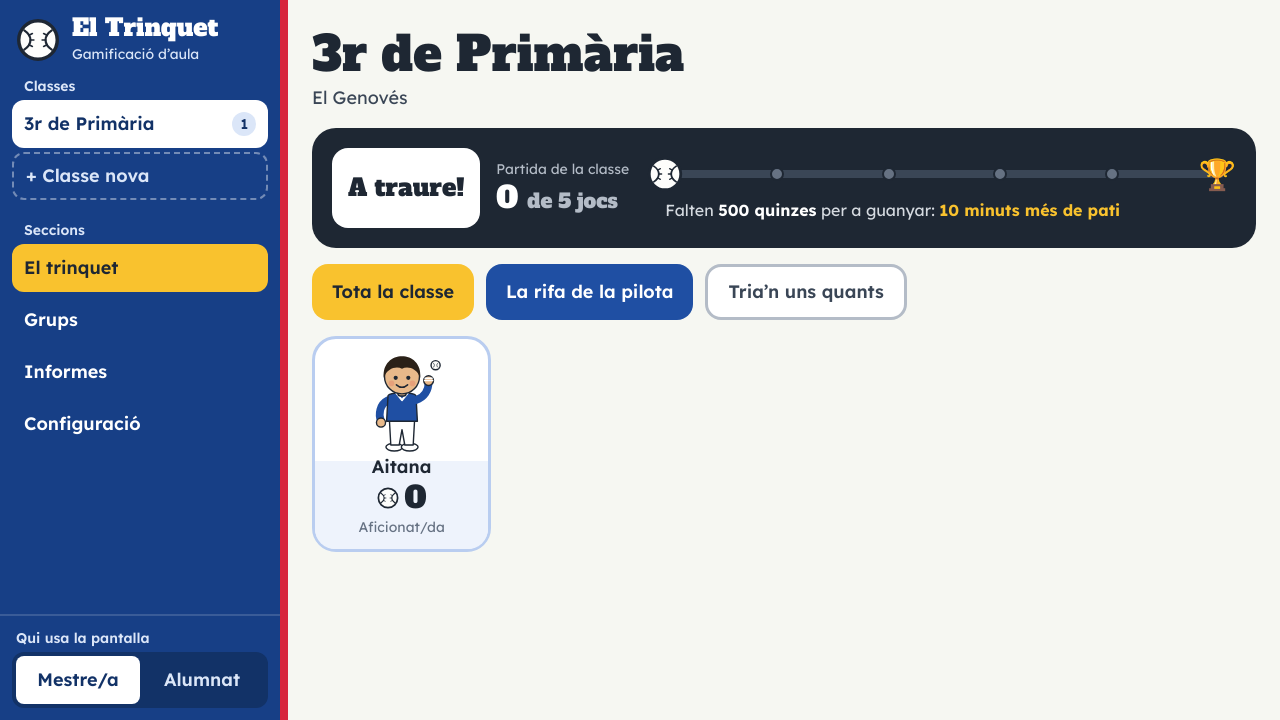
it: diverses classes › crea una classe nova, buida, i porta a Configuració per a afegir-hi alumnes
The image size is (1280, 720).
Click the button "+ Classe nova".
click(140, 176)  # box top-left (12, 152), bottom-right (268, 200)
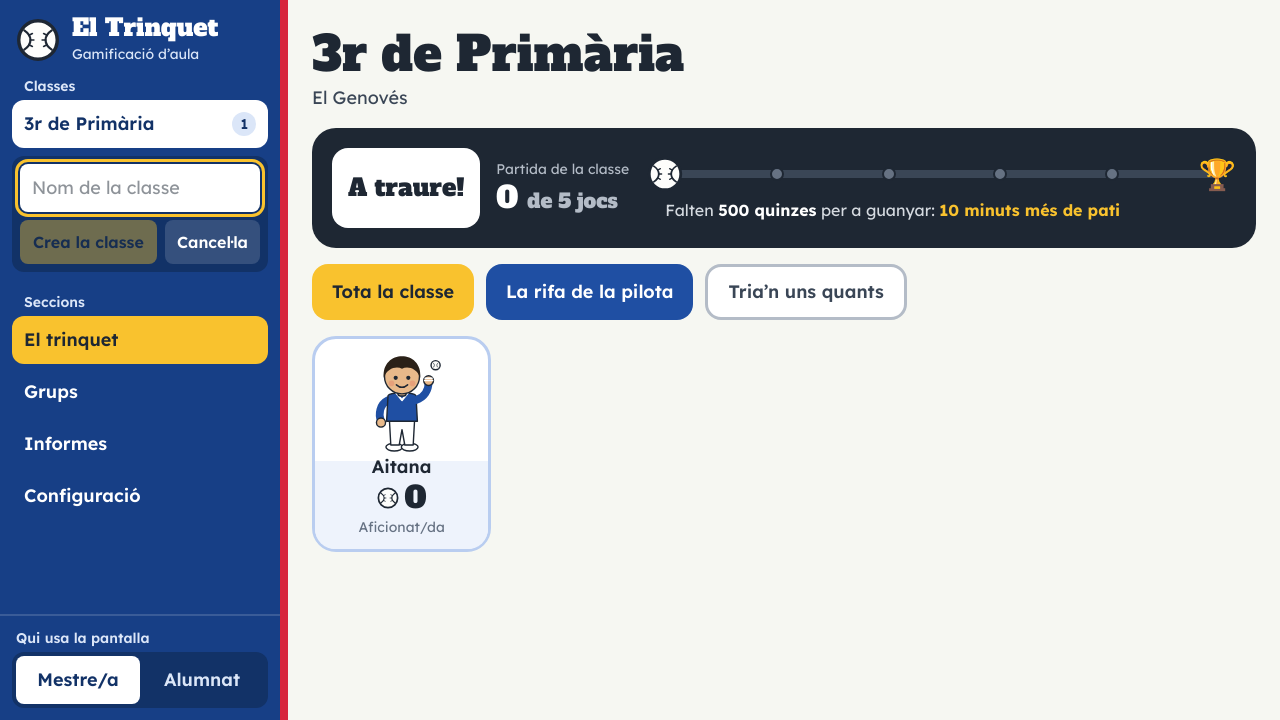
Type "4t B" into the field named "Nom de la classe nova".
click(140, 188); type("4t B")  # box top-left (20, 164), bottom-right (260, 212)
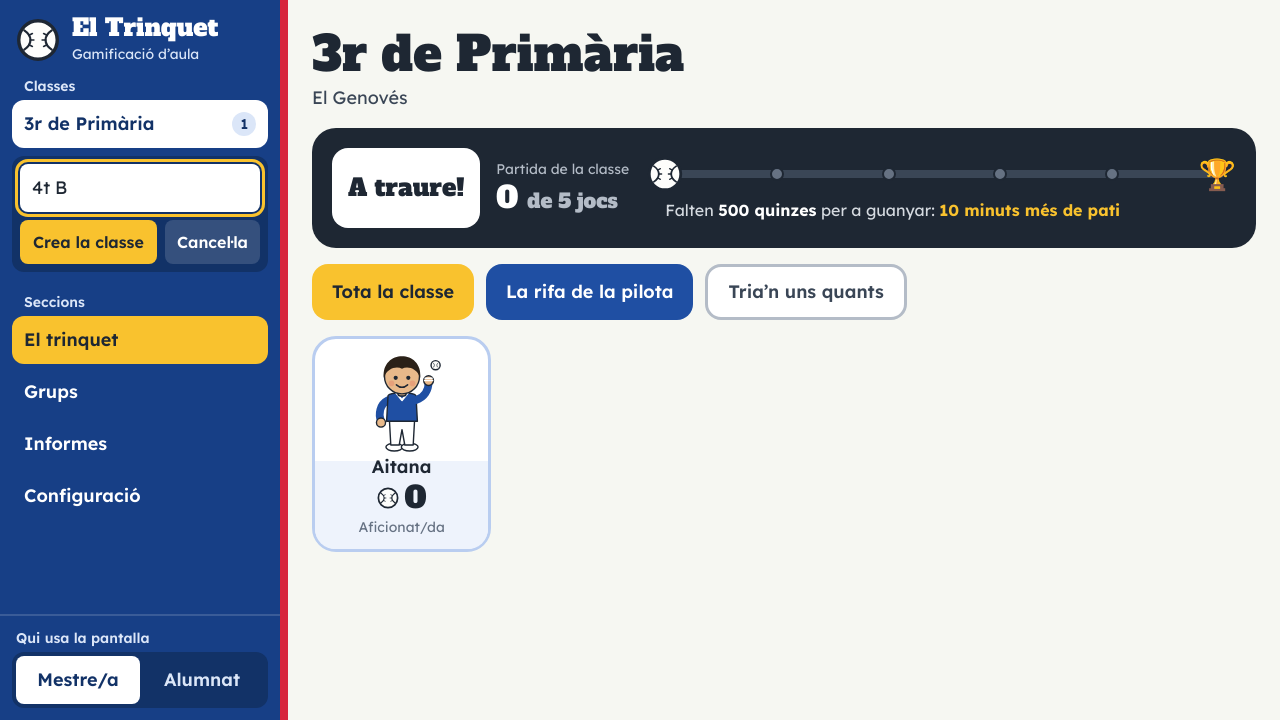
Click the button "Crea la classe".
click(88, 242)  # box top-left (20, 220), bottom-right (157, 264)
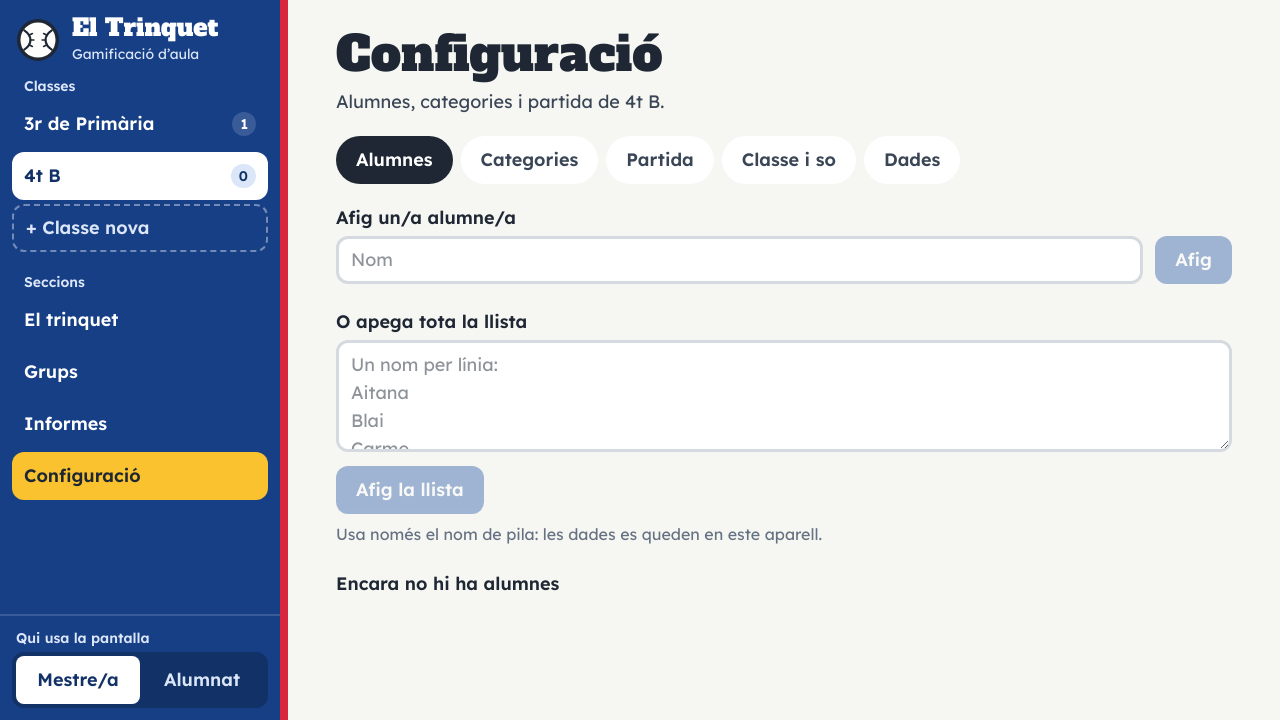
Now the text "4t B" is shown, box top-left (24, 162), bottom-right (61, 190)
Now the heading "Configuració" is shown, box top-left (336, 21), bottom-right (662, 87)
Now the heading "Encara no hi ha alumnes" is shown, box top-left (336, 572), bottom-right (559, 595)
